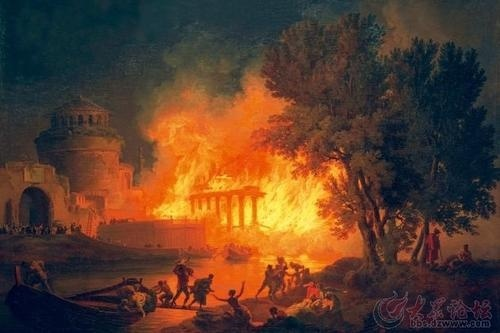fire: (150, 136, 351, 238)
